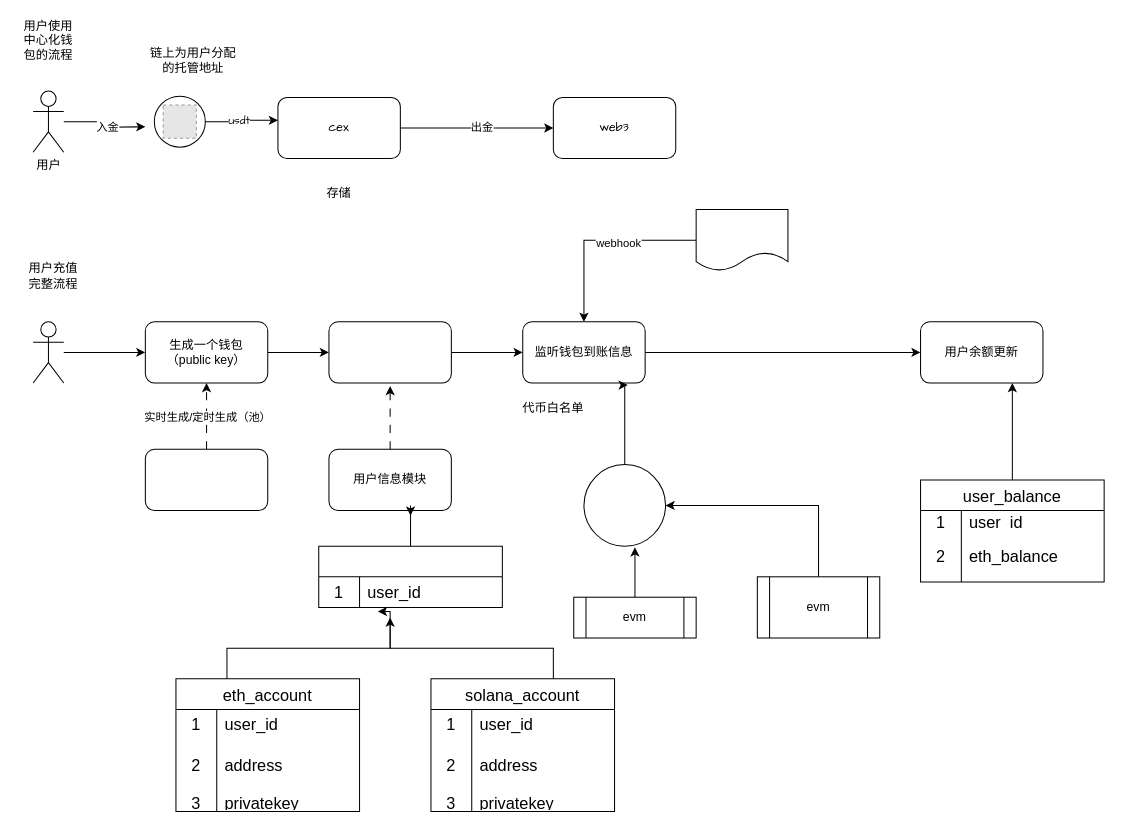
Image size: 1122x829. Some labels were removed from this diagram. Grey dashed boxes stand in for pictures. The shapes that lost their labels are listed below. From the top down, each one's box as (x1, y1, x2, y2) in pixels, then its label:
(695, 209, 788, 271): rpc
(32, 321, 64, 383): uid
(328, 321, 451, 383): 将钱包写入用户信息
(144, 448, 268, 511): 调用地址生成模块
(583, 464, 666, 546): 地址监听模块
(318, 545, 502, 607): user_infor
